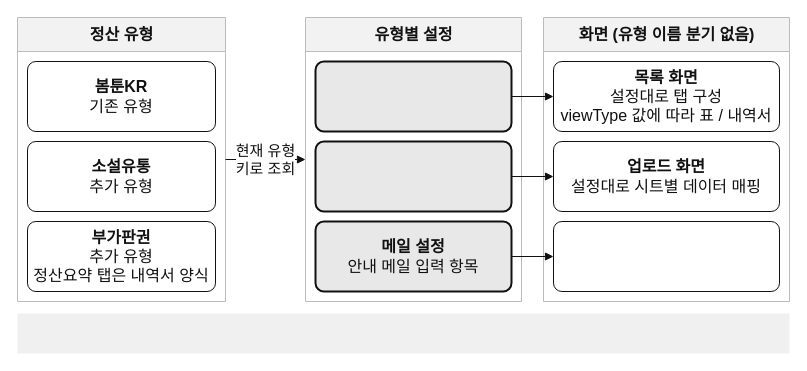
This 807x371 diagram has some shape labels left out. Each missing label, with the centre of its shape:
"메일 발송 화면 설정대로 입력 항목 구성" goes at [666,256].
"목록 설정 탭 구성·데이터 변환 함수 탭 표시 방식(viewType)" goes at [413,96].
"세 설정 모두 satisfies 로 모든 유형 키를 검사 — 한 유형이라도 설정이 빠지면 타입 체크에서 오류" goes at [403,333].
"업로드 설정 엑셀 시트 ↔ 데이터 키 매핑" goes at [413,176].
